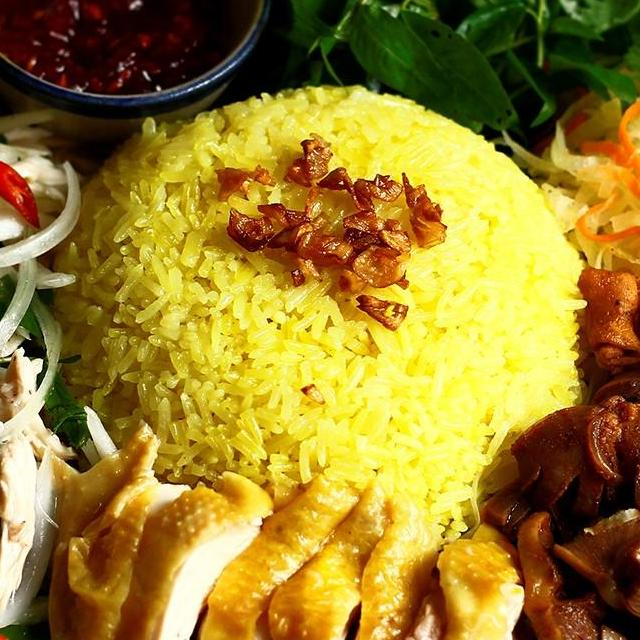com: (37, 78, 594, 560)
com ga: (0, 0, 640, 640)
rau ram: (250, 0, 640, 150)
thit ga: (168, 469, 537, 640), (30, 412, 279, 640), (0, 339, 85, 640), (0, 136, 81, 252)
